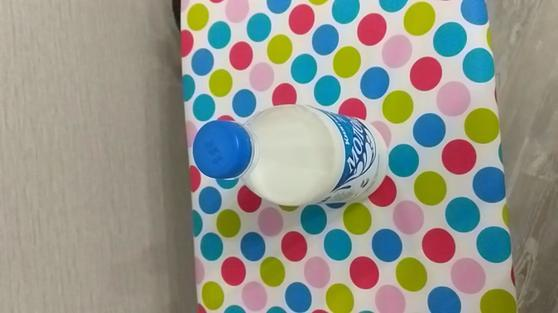milk: (187, 98, 405, 216)
